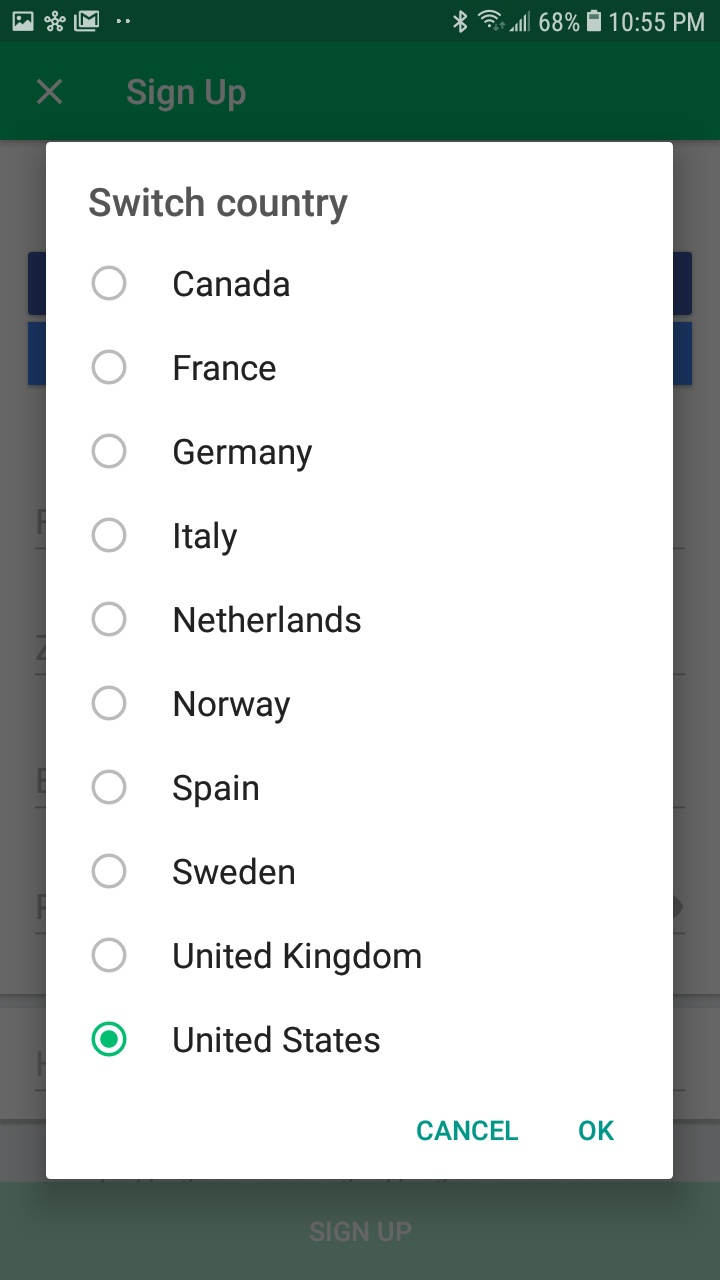CheckedTextView: (92, 937, 422, 976), (92, 1021, 381, 1057), (91, 601, 362, 638), (91, 433, 313, 473), (92, 685, 291, 725), (91, 853, 295, 890), (91, 265, 291, 302), (91, 349, 277, 386), (92, 768, 259, 809), (91, 517, 238, 557)
Modal: (47, 142, 674, 1180)
Text: (89, 186, 349, 226), (174, 940, 422, 976), (174, 1025, 381, 1054), (174, 604, 362, 634), (174, 438, 313, 473), (174, 691, 291, 725), (173, 857, 295, 886), (174, 269, 291, 298), (173, 774, 259, 809), (174, 355, 277, 382), (175, 521, 238, 557), (417, 1120, 519, 1142), (578, 1119, 615, 1141)
UpperTaskBar: (1, 1, 720, 43)
